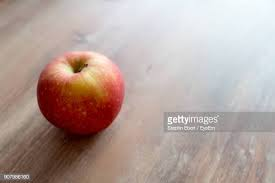apple: (39, 52, 127, 138)
